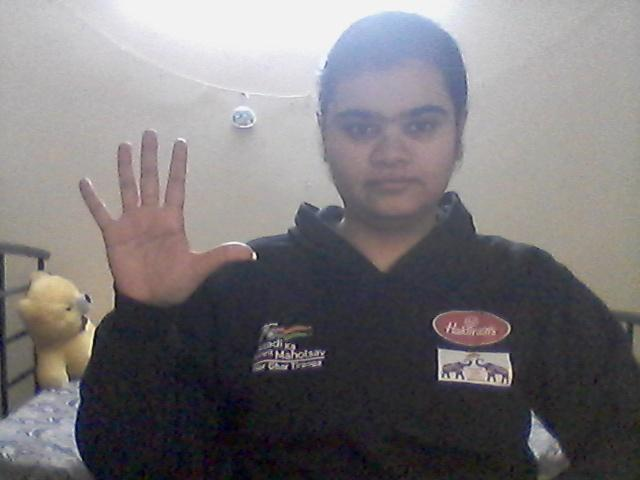hello: (50, 124, 256, 314)
